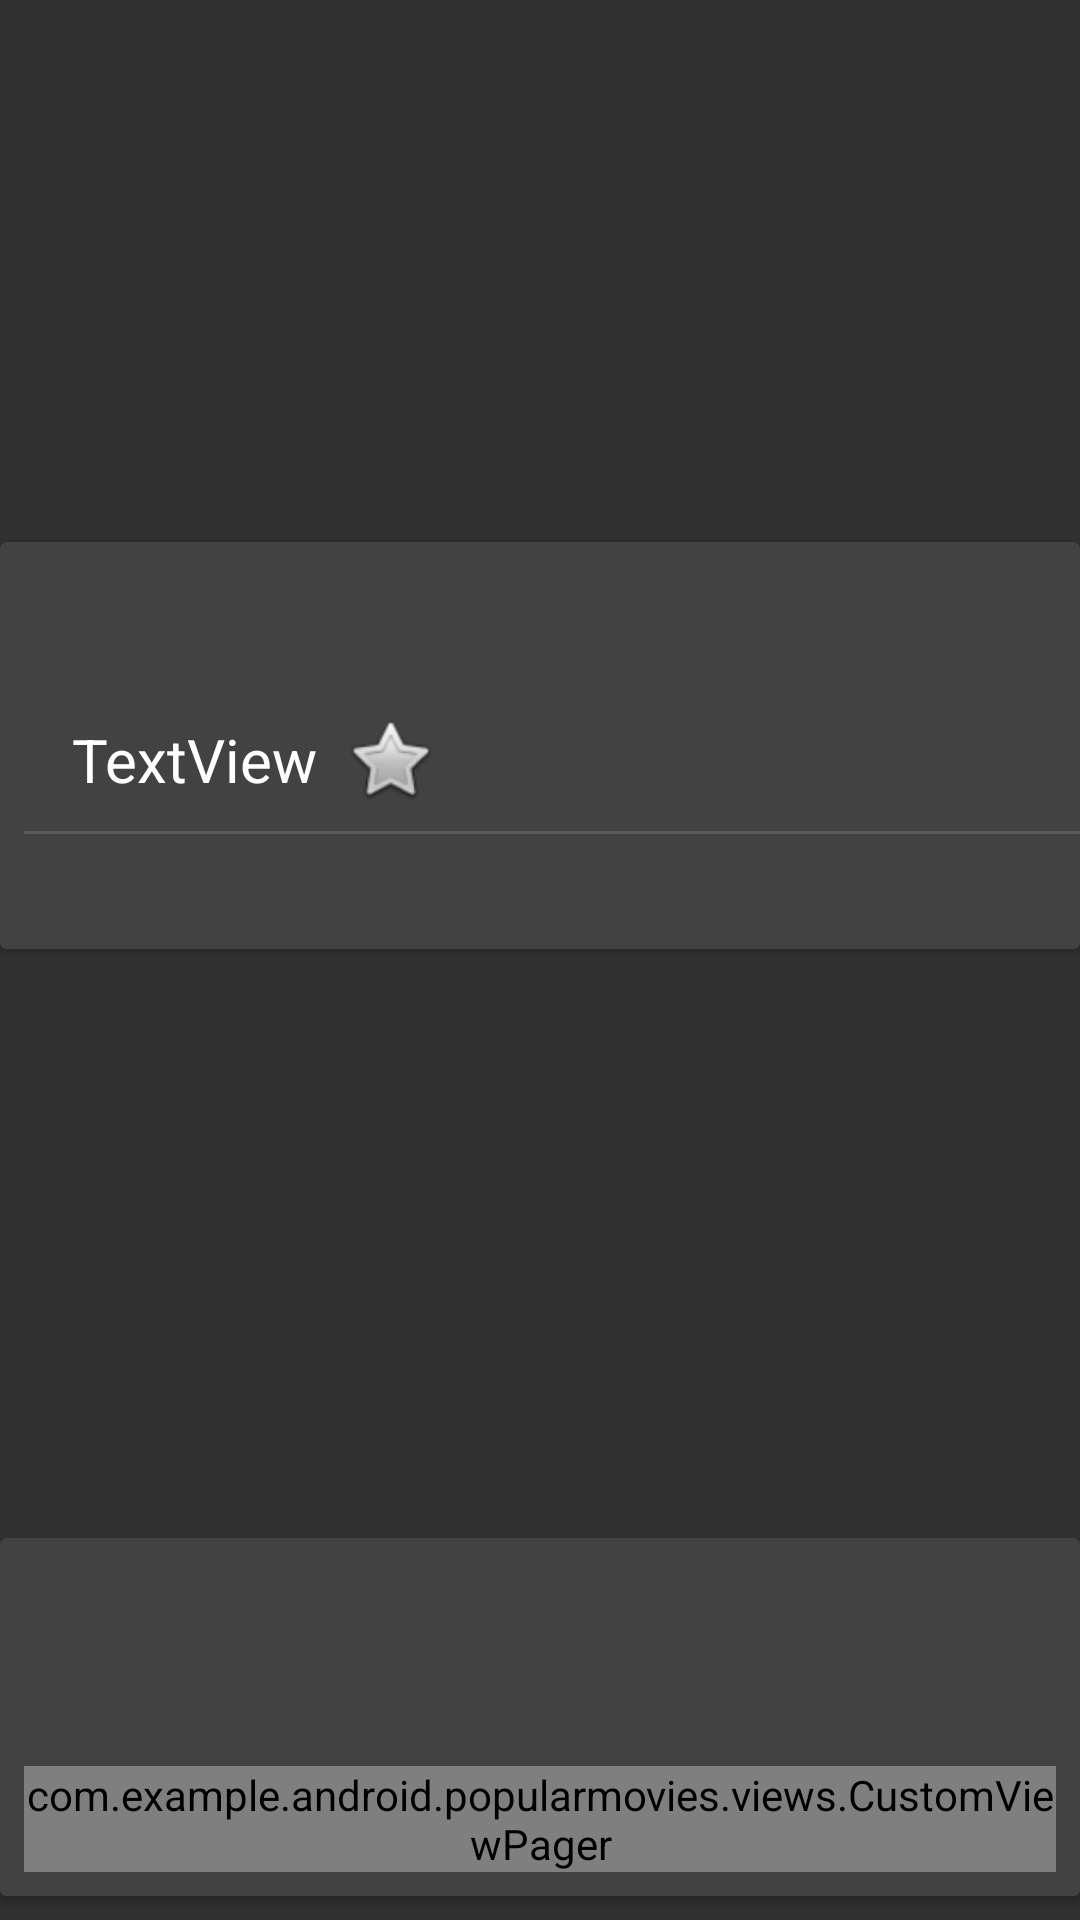

Named icons in this screenshot (1080w x 1920h) and their centers, [x,y]:
star: [391,758]
